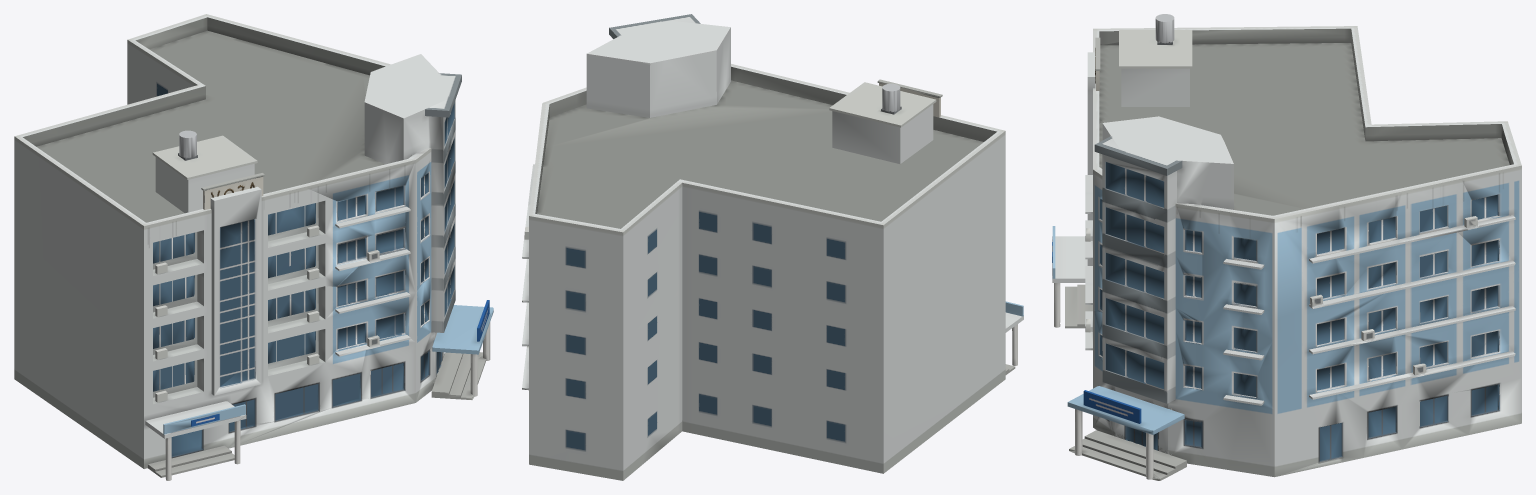
Rendered from cang_vu_vung_tau.mid.glb.
The picture shows the model from 3 angles, left to right: view 1: azimuth 30°, elevation 25°; view 2: azimuth 150°, elevation 25°; view 3: azimuth 270°, elevation 25°; orthographic projection. The views are drawn at different scales.
Visible parts, largest first — view 1: cang_vu_vung_tau; view 2: cang_vu_vung_tau; view 3: cang_vu_vung_tau.
Boxes of the visible parts, x1,y1,x2,y2 form: cang_vu_vung_tau: (14, 14, 493, 480); cang_vu_vung_tau: (522, 14, 1023, 480); cang_vu_vung_tau: (1052, 14, 1521, 480).
Bounding box in the file's own units: 30 × 21.8 × 30.02.
2 materials, 2 textured.
